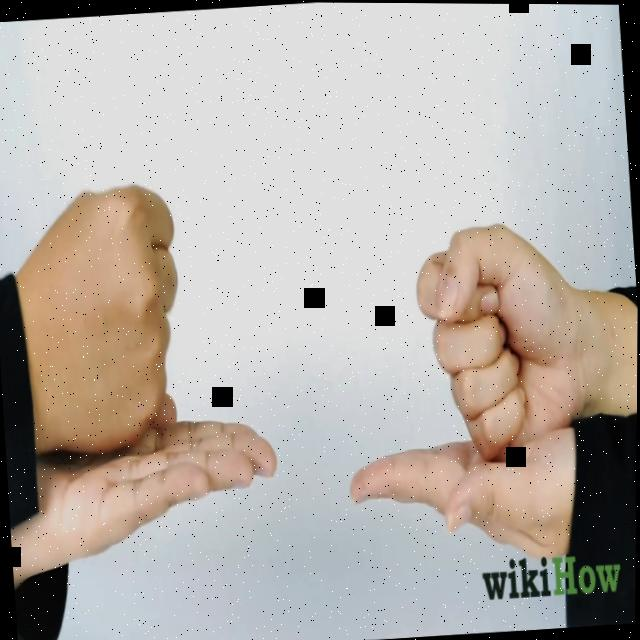Rock: (8, 177, 191, 460), (409, 215, 594, 464)
